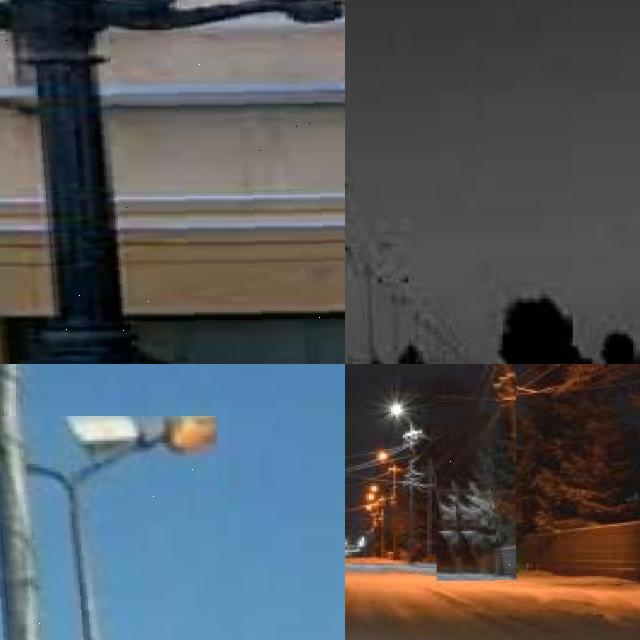street light: (0, 0, 345, 364), (0, 416, 216, 640), (436, 364, 516, 581), (391, 404, 415, 562), (381, 454, 401, 558), (372, 486, 387, 558)
